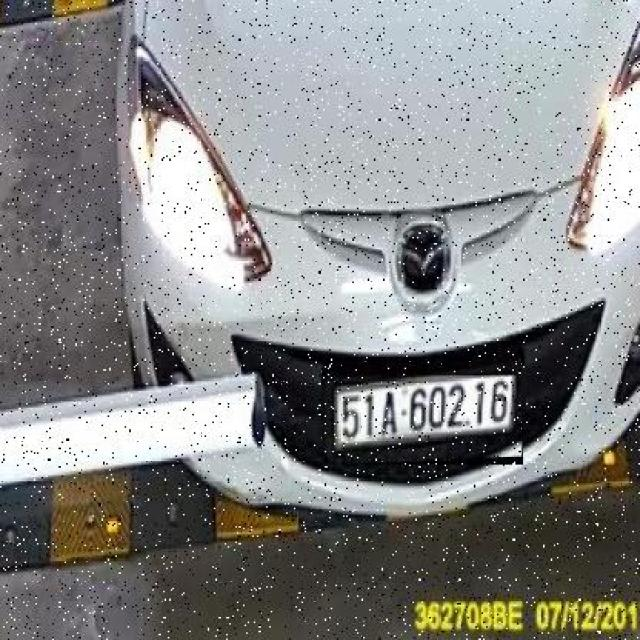number_plate: (334, 376, 523, 464)
